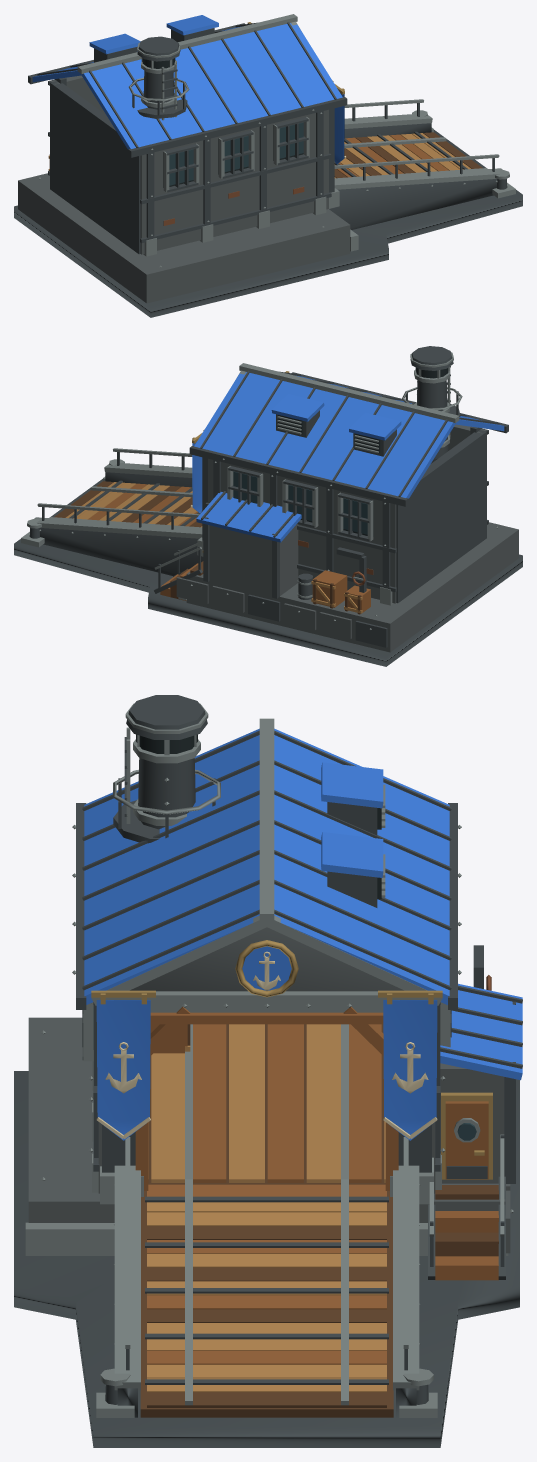
The picture shows the model from 3 angles, top to bottom: view 1: azimuth 30°, elevation 25°; view 2: azimuth 150°, elevation 25°; view 3: azimuth 270°, elevation 25°; orthographic projection. The views are drawn at different scales.
Parts seen in each view (by area): view 1: rear_platform, team_roof_1, side_wall_1, back_wall, complete_base, ramp_cheek_1, eave_fascia_1, ramp_edge_1, ridge_cap, wall_strap_1_0.67, wall_strap_1_0.4, ramp_edge_-1 (+24 smaller); view 2: team_roof_-1, back_wall, rear_platform, complete_base, side_wall_-1, side_workshop, ramp_cheek_-1, workshop_team_roof, eave_fascia_-1, ridge_cap, ramp_edge_-1, dormer_team_roof_0 (+32 smaller); view 3: complete_base, team_roof_1, team_roof_-1, rear_platform, front_gable, team_banner_1, team_banner_-1, interior_floor_3, interior_floor_4, interior_floor_2, interior_floor_5, ramp_edge_1 (+69 smaller).
Part boxes in pixels (left/top/right/bottom): rear_platform: left=18, top=173, right=350, bottom=303; team_roof_1: left=81, top=23, right=342, bottom=149; side_wall_1: left=140, top=109, right=328, bottom=254; back_wall: left=50, top=81, right=140, bottom=254; complete_base: left=14, top=130, right=522, bottom=317; ramp_cheek_1: left=329, top=179, right=497, bottom=229; eave_fascia_1: left=128, top=96, right=347, bottom=157; ramp_edge_1: left=334, top=168, right=502, bottom=189; ridge_cap: left=77, top=14, right=297, bottom=74; wall_strap_1_0.67: left=140, top=153, right=331, bottom=204; wall_strap_1_0.4: left=140, top=192, right=331, bottom=243; ramp_edge_-1: left=344, top=114, right=432, bottom=128; team_roof_-1: left=194, top=372, right=454, bottom=498; back_wall: left=396, top=430, right=486, bottom=603; rear_platform: left=186, top=522, right=518, bottom=652; complete_base: left=14, top=479, right=522, bottom=666; side_wall_-1: left=208, top=458, right=396, bottom=603; side_workshop: left=209, top=524, right=298, bottom=595; ramp_cheek_-1: left=39, top=528, right=203, bottom=575; workshop_team_roof: left=196, top=492, right=301, bottom=542; eave_fascia_-1: left=189, top=445, right=408, bottom=506; ridge_cap: left=239, top=363, right=459, bottom=423; ramp_edge_-1: left=34, top=517, right=202, bottom=538; dormer_team_roof_0: left=349, top=412, right=401, bottom=440; complete_base: left=14, top=1071, right=519, bottom=1447; team_roof_1: left=84, top=728, right=259, bottom=1004; team_roof_-1: left=274, top=728, right=449, bottom=1004; rear_platform: left=28, top=1017, right=505, bottom=1222; front_gable: left=130, top=927, right=403, bottom=991; team_banner_1: left=96, top=1000, right=150, bottom=1140; team_banner_-1: left=383, top=1000, right=437, bottom=1140; interior_floor_3: left=267, top=1024, right=303, bottom=1182; interior_floor_4: left=229, top=1024, right=264, bottom=1182; interior_floor_2: left=306, top=1024, right=340, bottom=1182; interior_floor_5: left=193, top=1024, right=226, bottom=1182; ramp_edge_1: left=114, top=1165, right=140, bottom=1390.
Bounding box in the file's own units: 2.88 × 1.6 × 1.73.
